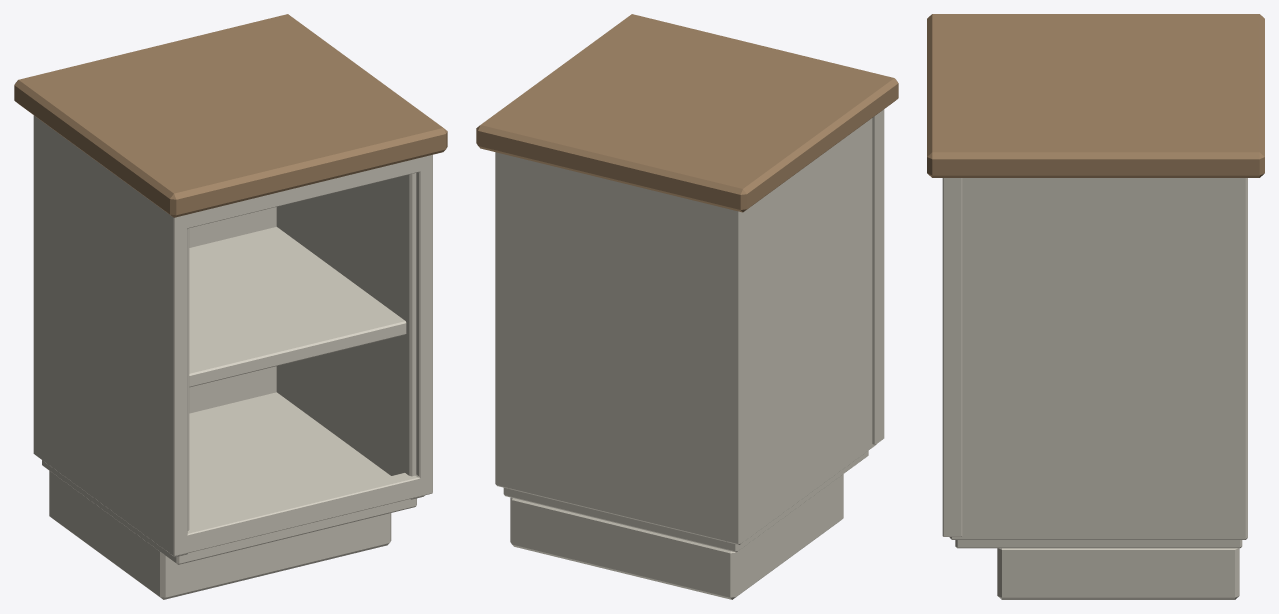
3 views of the same model, side by side, from view 1: azimuth 30°, elevation 25°; view 2: azimuth 150°, elevation 25°; view 3: azimuth 270°, elevation 25° (orthographic). The views are drawn at different scales.
Visible parts, largest first — view 1: Countertop, Side wall, Side wall.001, Continuous front frame, Open cubby shelf, Cabinet floor, Recessed plinth, Rear panel; view 2: Rear panel, Countertop, Side wall, Recessed plinth, Side wall.001, Continuous front frame, Cabinet floor; view 3: Side wall.001, Countertop, Recessed plinth, Continuous front frame, Cabinet floor.
Part boxes in pixels (x1,y1,x2,y2): Countertop: (14, 14, 447, 217); Side wall: (33, 115, 189, 557); Side wall.001: (276, 173, 424, 499); Continuous front frame: (165, 154, 432, 556); Open cubby shelf: (189, 227, 406, 387); Cabinet floor: (42, 392, 416, 564); Recessed plinth: (49, 471, 391, 599); Rear panel: (189, 207, 276, 413); Rear panel: (508, 155, 726, 541); Countertop: (476, 14, 898, 212); Side wall: (726, 118, 876, 544); Recessed plinth: (510, 474, 843, 599); Side wall.001: (495, 152, 508, 488); Continuous front frame: (872, 109, 884, 444); Cabinet floor: (503, 451, 868, 552); Side wall.001: (949, 178, 1247, 539); Countertop: (927, 14, 1264, 177); Recessed plinth: (997, 548, 1239, 599); Continuous front frame: (942, 178, 962, 536); Cabinet floor: (955, 540, 1242, 548).
Bounding box in the file's own units: 0.6 × 0.9 × 0.6.
